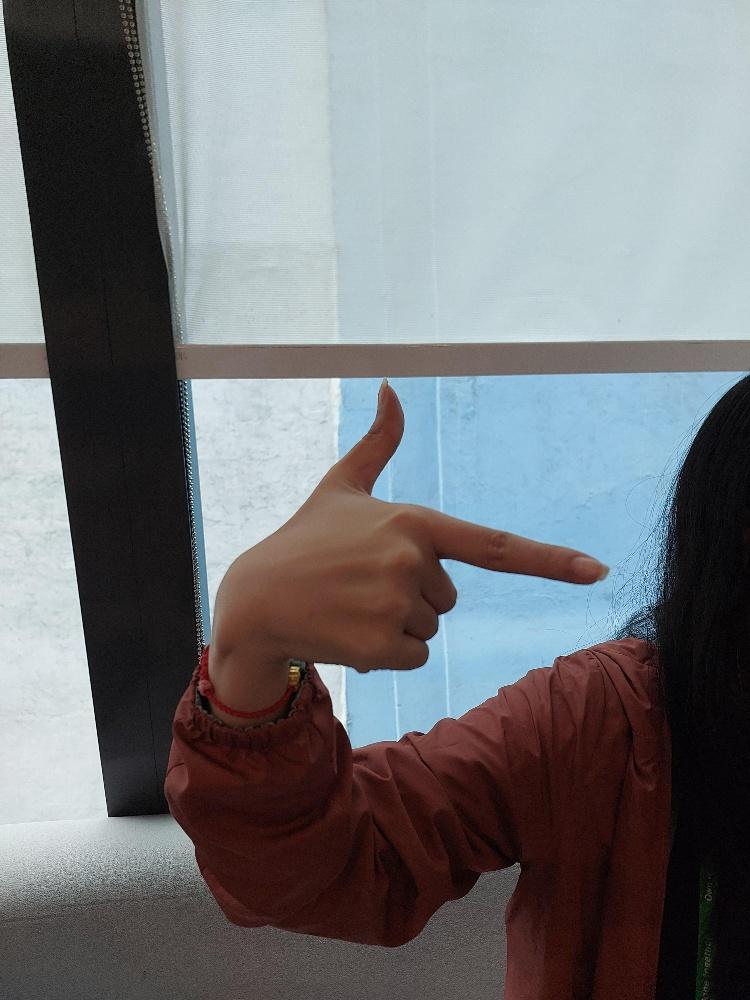g: (206, 379, 611, 674)
